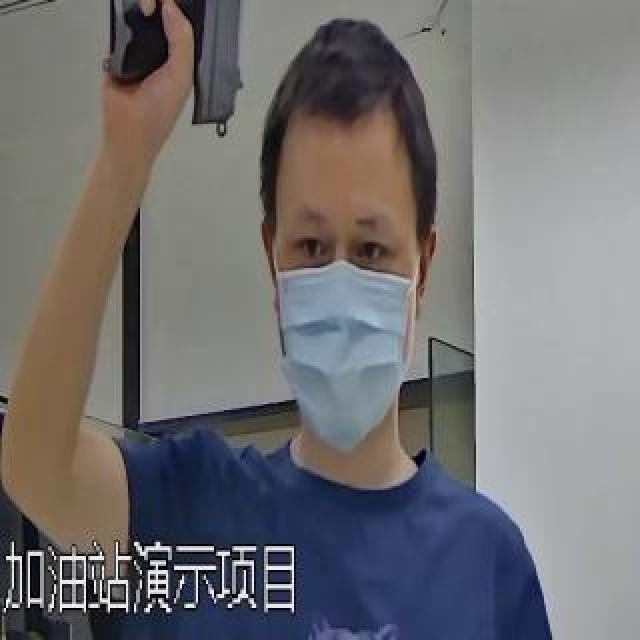Guns: (88, 0, 272, 158)
